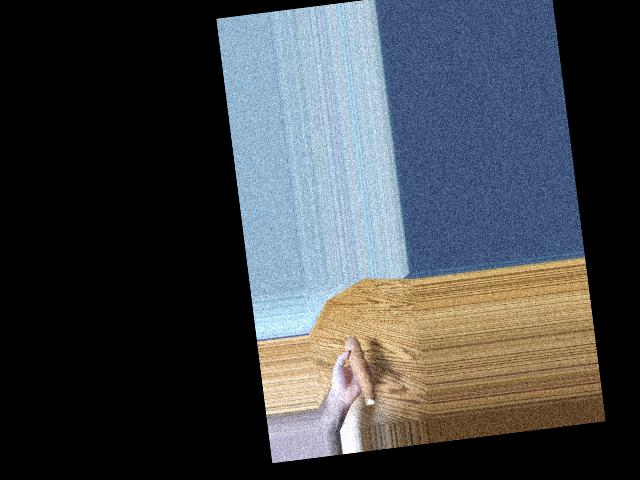sweet_potato: (345, 330, 375, 404)
